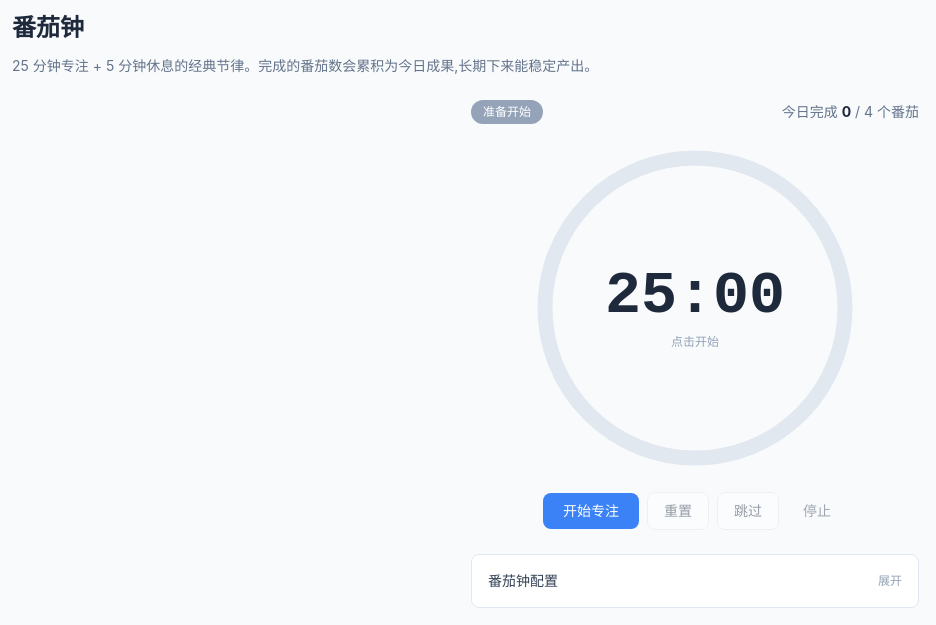
it: PomodoroPage › 点击"跳过"切到 short-break
What coordinates should you click on to do the following:
click the button "开始专注"
I would click on:
 (591, 511)
Its box is left=543, top=493, right=639, bottom=529.
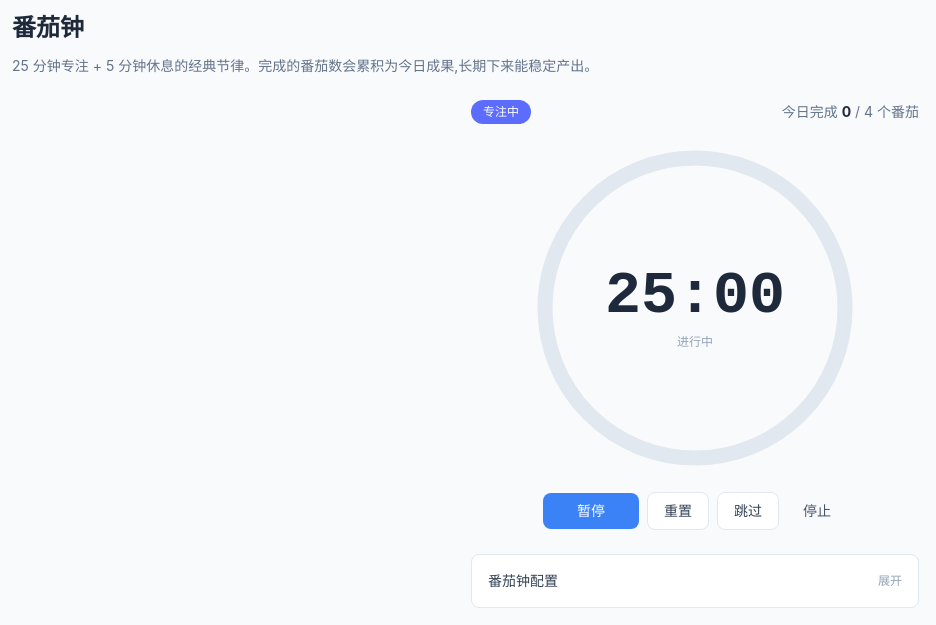
What coordinates should you click on to do the following:
click the button "跳过"
I would click on:
 (748, 511)
Its box is left=717, top=492, right=779, bottom=530.
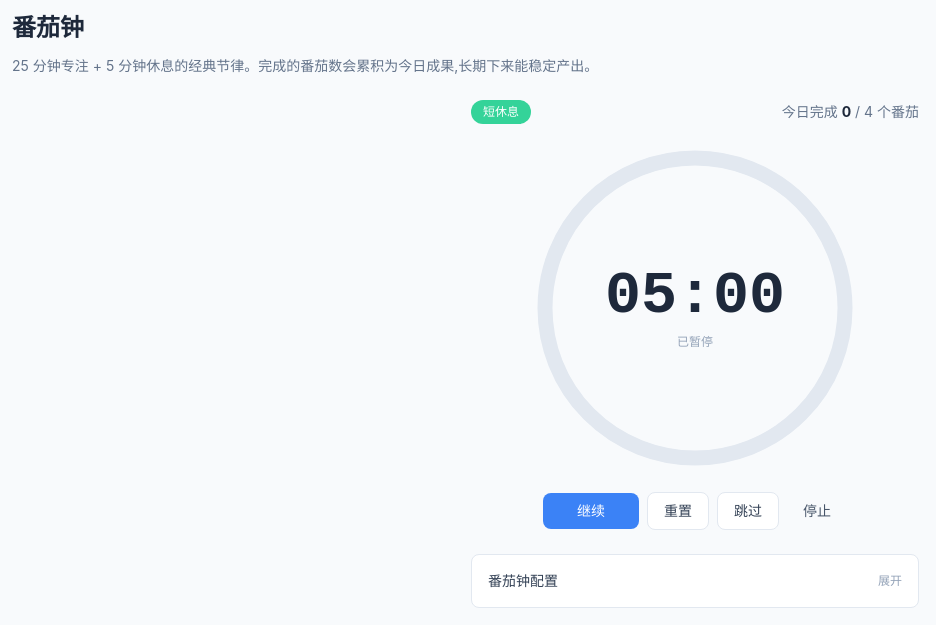
Expected: the text with test id "pomodoro-phase-label" reads "短休息", left=483, top=104, right=519, bottom=119
Expected: the text with test id "pomodoro-clock" reads "05:00", left=605, top=262, right=785, bottom=330
